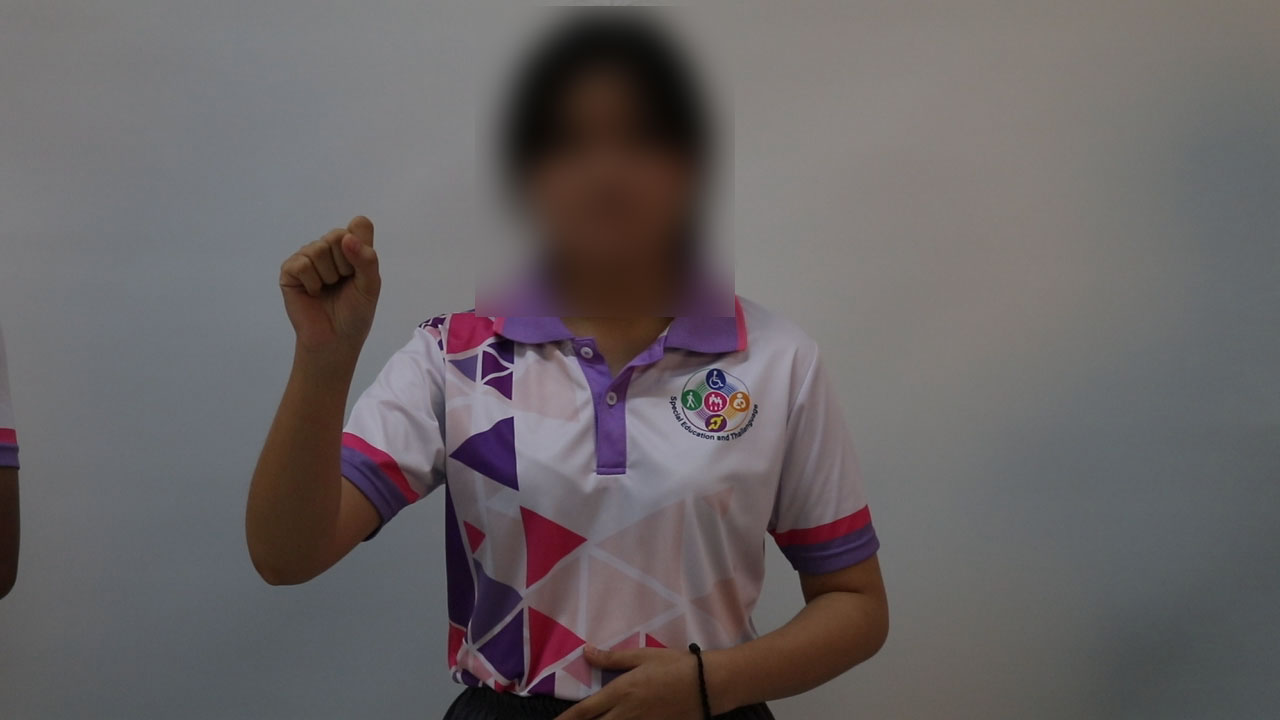sor: (259, 202, 403, 356)
